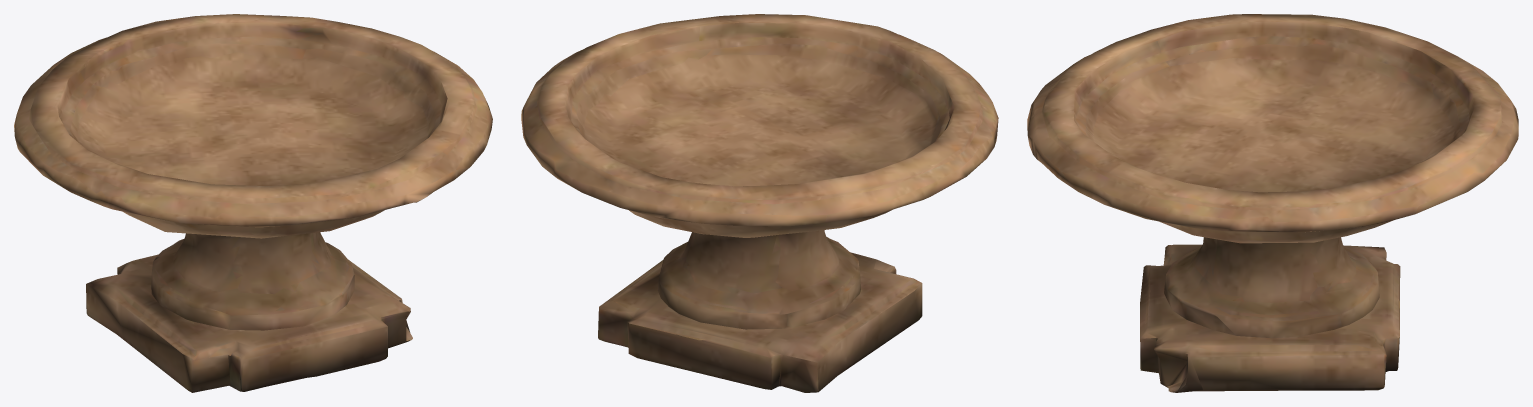
The model's file is stone-fountain-v001.glb.
The picture shows the model from 3 angles, left to right: view 1: azimuth 30°, elevation 25°; view 2: azimuth 150°, elevation 25°; view 3: azimuth 270°, elevation 25°; orthographic projection. The views are drawn at different scales.
Visible parts, largest first — view 1: stone-fountain; view 2: stone-fountain; view 3: stone-fountain.
Part boxes in pixels (<box>): stone-fountain: <box>14,14,492,392</box>; stone-fountain: <box>521,14,998,392</box>; stone-fountain: <box>1027,14,1518,392</box>.
Size of the model in its own units: 2.67 by 1.4 by 2.67.
Materials: 1 (1 with a texture image).
